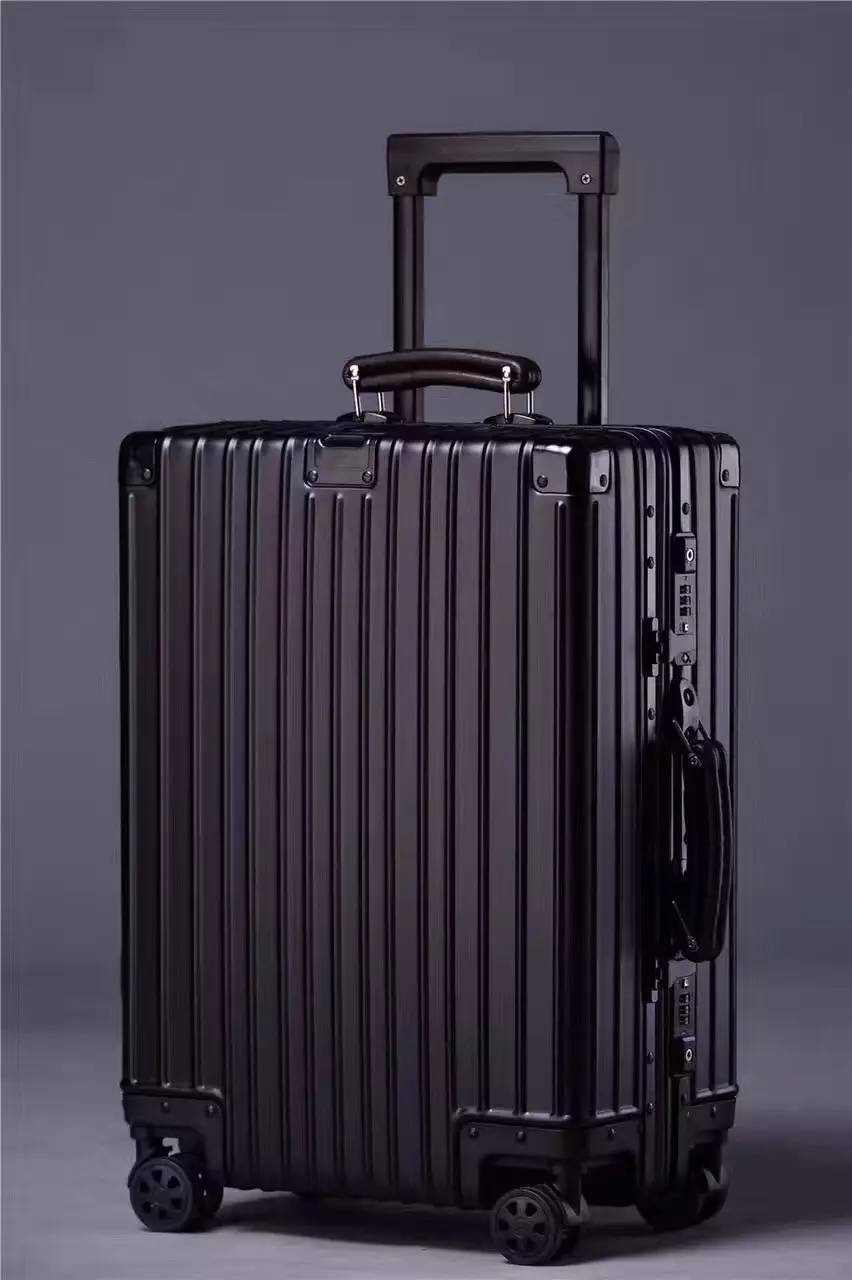luggage: (119, 130, 740, 1266)
